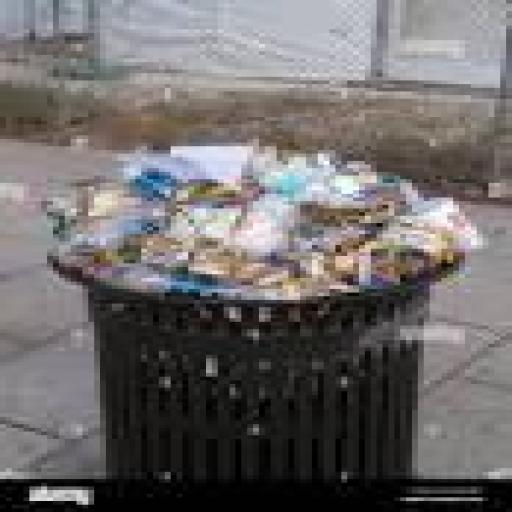poubelle_pleine: (33, 109, 473, 479)
